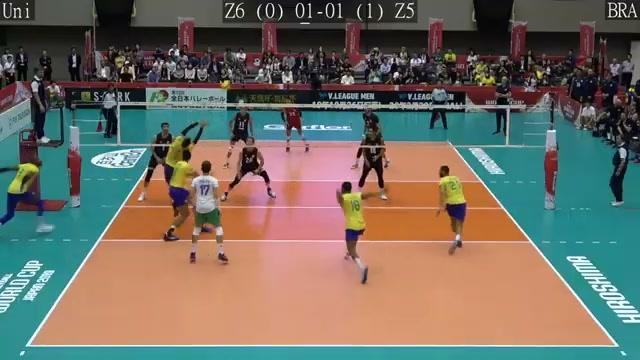ball: (219, 76, 233, 90)
